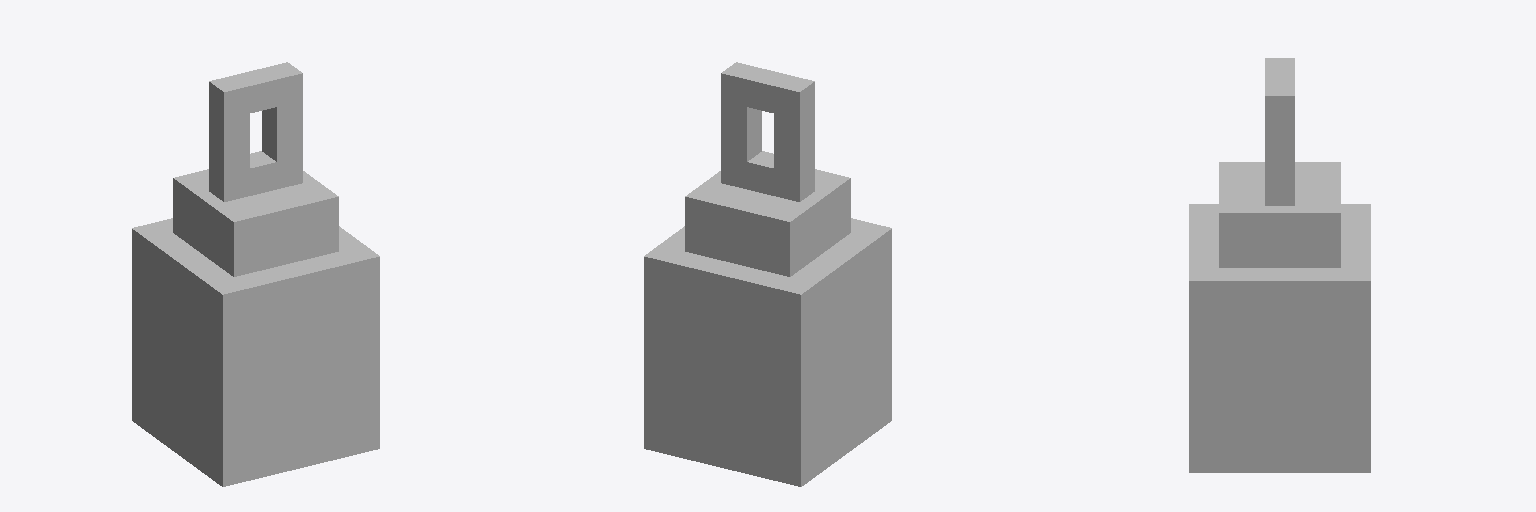
File: Mincraft-Lantern.obj
3 views of the same model, side by side, from view 1: azimuth 30°, elevation 25°; view 2: azimuth 150°, elevation 25°; view 3: azimuth 270°, elevation 25° (orthographic).
Parts seen in each view (by area): view 1: cuboid, plane; view 2: cuboid, plane; view 3: cuboid, plane.
Boxes of the visible parts, box(x1,y1,x2,y2) form: cuboid: box(132, 169, 379, 486); plane: box(209, 62, 302, 201); cuboid: box(644, 169, 891, 486); plane: box(721, 62, 814, 201); cuboid: box(1189, 162, 1370, 472); plane: box(1265, 58, 1294, 205).
Bounding box in the file's own units: 0.375 × 0.8125 × 0.375.